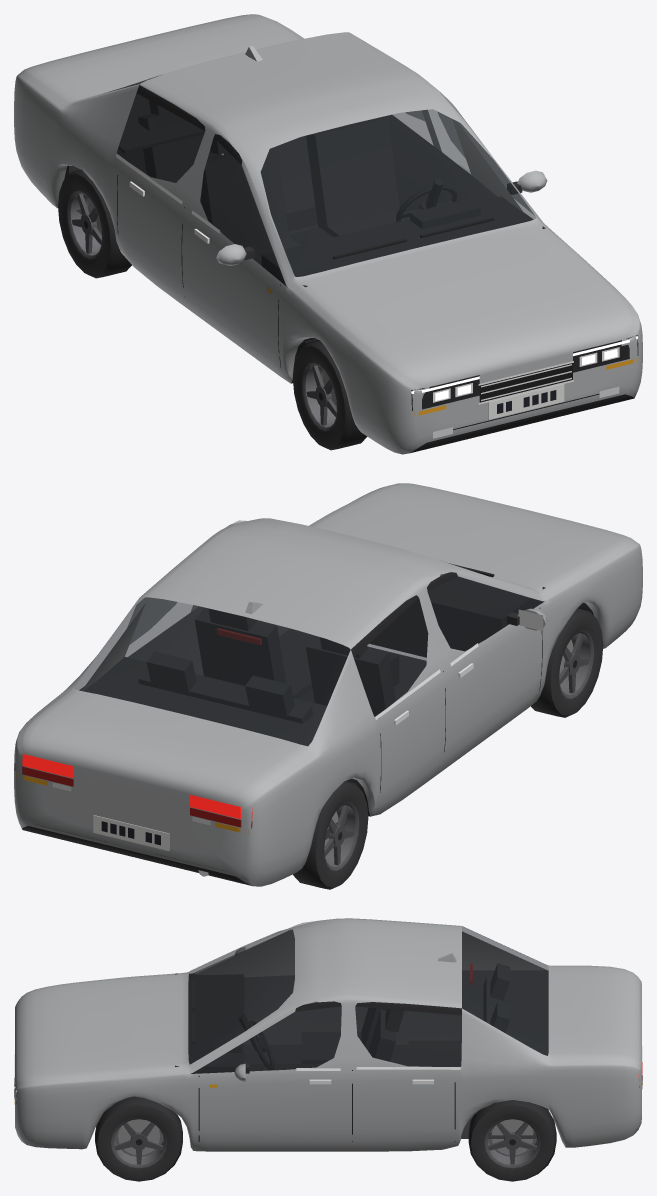
File: sedan_silver.glb
3 renders of one model, top to bottom at view 1: azimuth 30°, elevation 25°; view 2: azimuth 150°, elevation 25°; view 3: azimuth 270°, elevation 25°, orthographic. The views are drawn at different scales.
Visible parts, largest first — view 1: sedan_silver_body, Wheel_FR, Wheel_RR; view 2: sedan_silver_body, Wheel_RR, Wheel_FR; view 3: sedan_silver_body, Wheel_FL, Wheel_RL.
Boxes of the visible parts, <box> form: sedan_silver_body: <box>14,14,642,454</box>; Wheel_FR: <box>293,340,367,450</box>; Wheel_RR: <box>58,169,131,278</box>; sedan_silver_body: <box>14,483,642,886</box>; Wheel_RR: <box>293,781,368,889</box>; Wheel_FR: <box>531,608,603,717</box>; sedan_silver_body: <box>14,918,642,1151</box>; Wheel_FL: <box>95,1096,182,1181</box>; Wheel_RL: <box>468,1100,556,1181</box>.
Size of the model in its own units: 0.1135 by 0.0741 by 0.2358.
8 materials, 1 textured.
